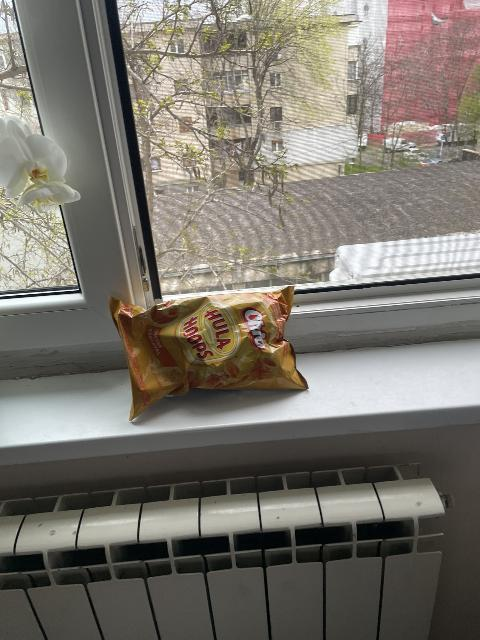Chio Hula Hoops Cheese 70g: (111, 286, 308, 418)
